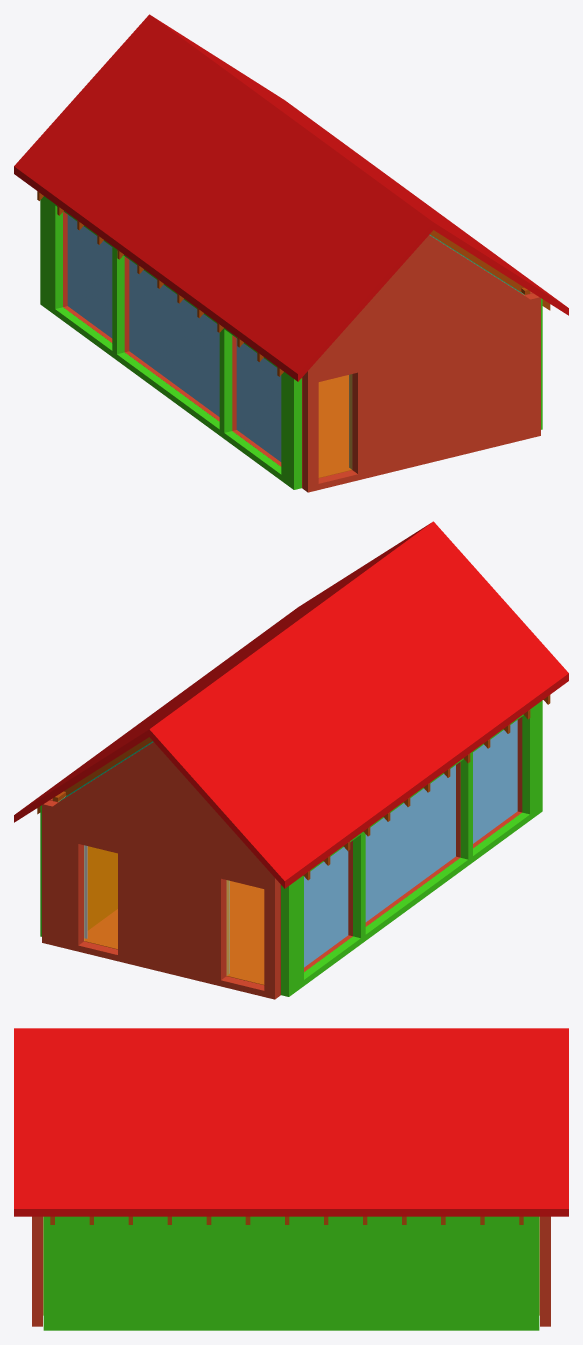
The model's file is obyvak.glb.
3 renders of one model, top to bottom at view 1: azimuth 30°, elevation 25°; view 2: azimuth 150°, elevation 25°; view 3: azimuth 270°, elevation 25°, orthographic. The views are drawn at different scales.
Parts seen in each view (by area): view 1: roofing, masonry (×2), glazing (×3), eps, floor, rafters; view 2: roofing, masonry (×2), glazing (×3), eps, floor, furniture, rafters; view 3: roofing, eps, masonry (×2).
Boxes of the visible parts, x1=… form: roofing: x1=14, y1=14, x2=568, y2=381; masonry (×2): x1=63, y1=211, x2=540, y2=492; glazing (×3): x1=67, y1=215, x2=281, y2=461; eps: x1=40, y1=196, x2=301, y2=489; floor: x1=318, y1=375, x2=351, y2=477; rafters: x1=277, y1=230, x2=550, y2=376; roofing: x1=14, y1=521, x2=568, y2=888; masonry (×2): x1=42, y1=717, x2=522, y2=999; glazing (×3): x1=304, y1=720, x2=517, y2=967; eps: x1=281, y1=700, x2=542, y2=996; floor: x1=84, y1=881, x2=264, y2=984; furniture: x1=87, y1=846, x2=117, y2=930; rafters: x1=37, y1=737, x2=310, y2=880; roofing: x1=14, y1=1028, x2=568, y2=1216; eps: x1=43, y1=1216, x2=539, y2=1330; masonry (×2): x1=32, y1=1216, x2=550, y2=1326.
Bounding box in the file's own units: 6.84 × 6 × 12.43.
